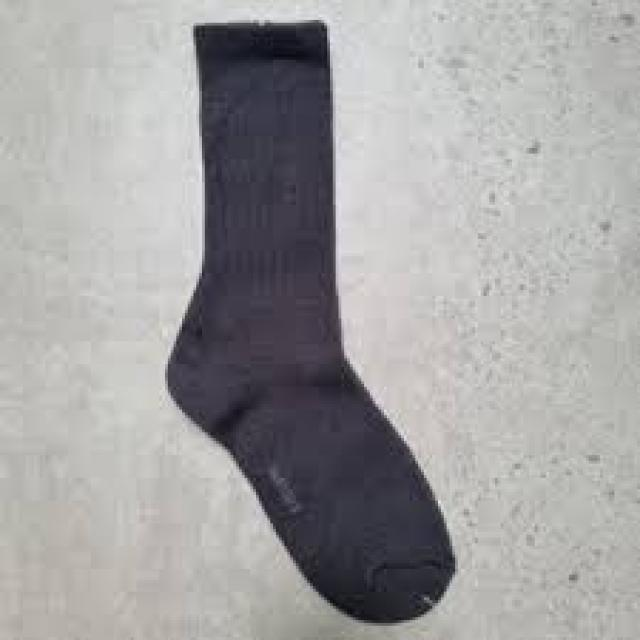sock: (162, 17, 455, 623)
